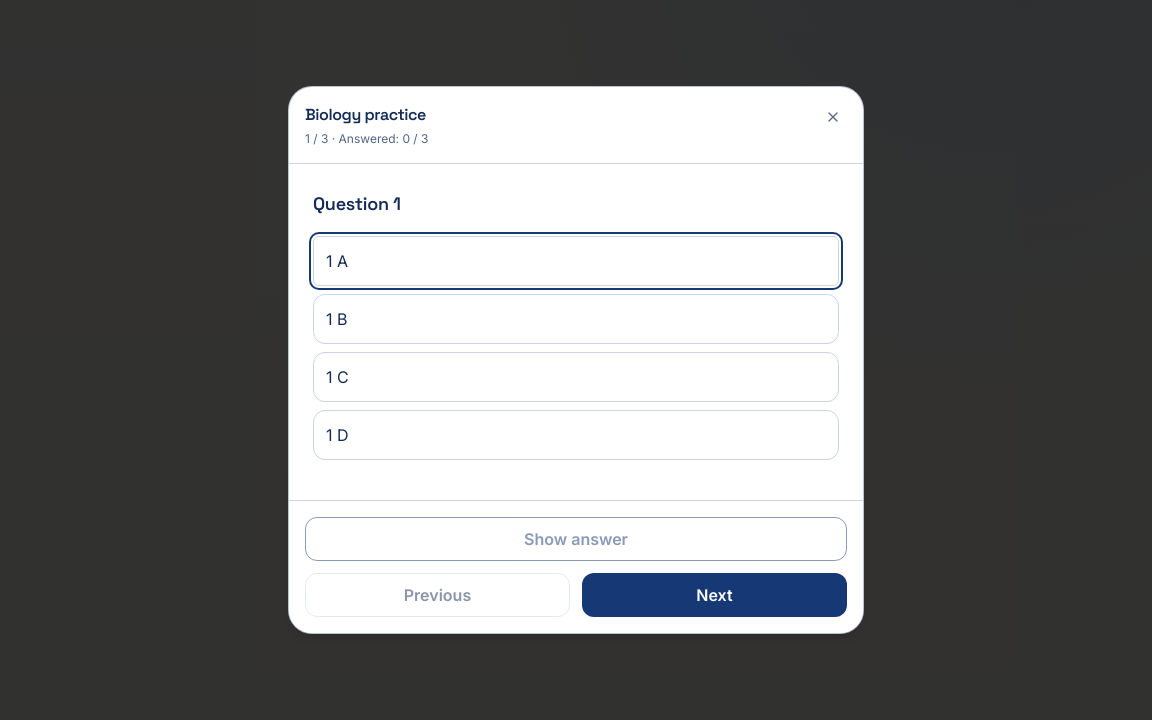
teacher MCQ navigation › allows en students to move both ways without answering first
This screenshot has width=1152, height=720.
Expected: the button "Previous" is disabled, [305, 573, 570, 617]
Click the button "Next" at (714, 595), box [582, 573, 847, 617]
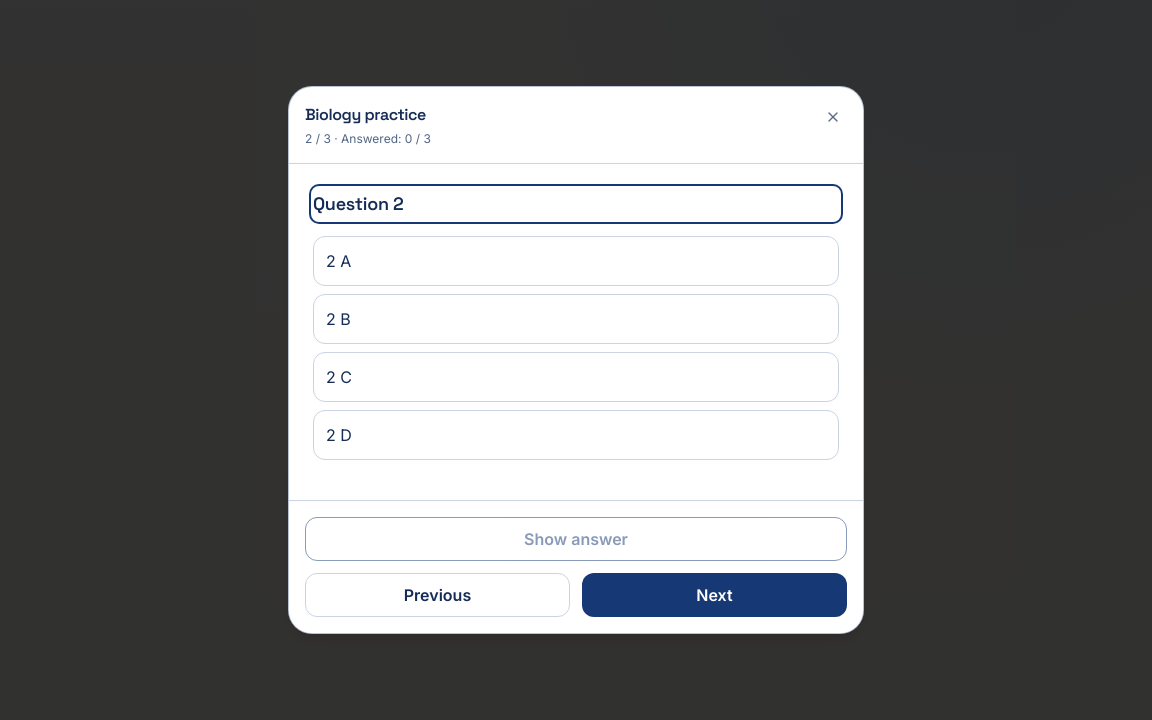
Expected: the heading "Question 2" is shown, [313, 192, 404, 215]
Click the button "Previous" at (438, 595), box [305, 573, 570, 617]
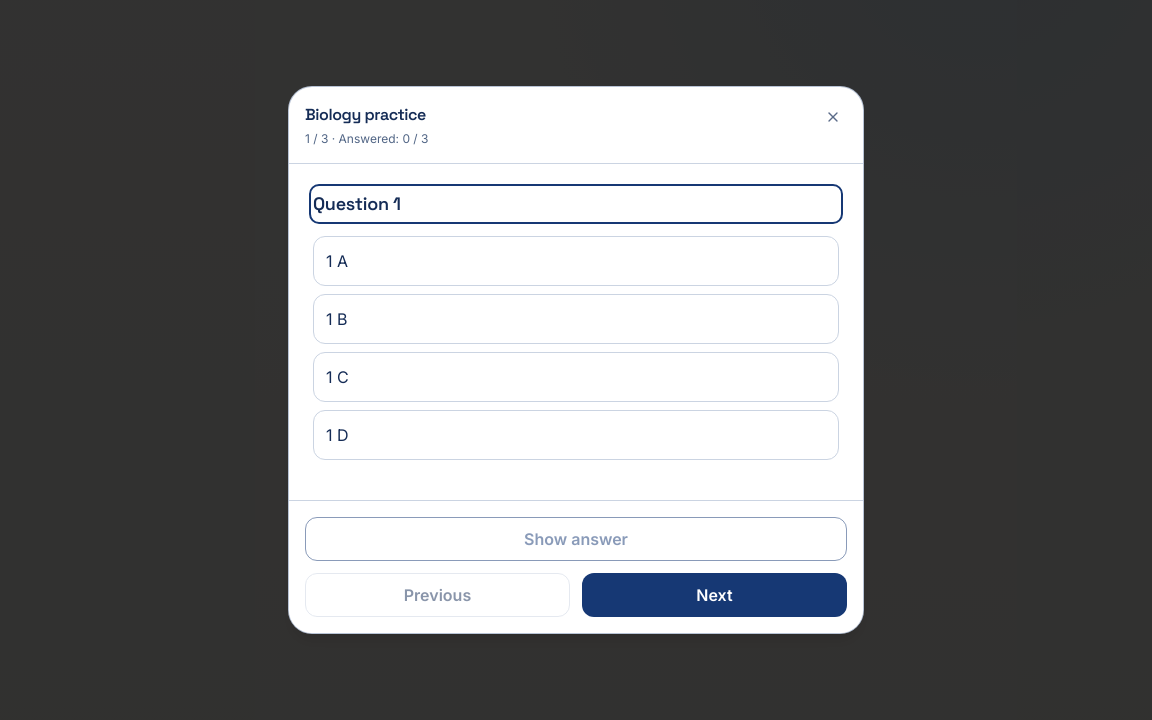
Expected: the heading "Question 1" is shown, [313, 192, 401, 215]
Click the button "Next" at (714, 595), box [582, 573, 847, 617]
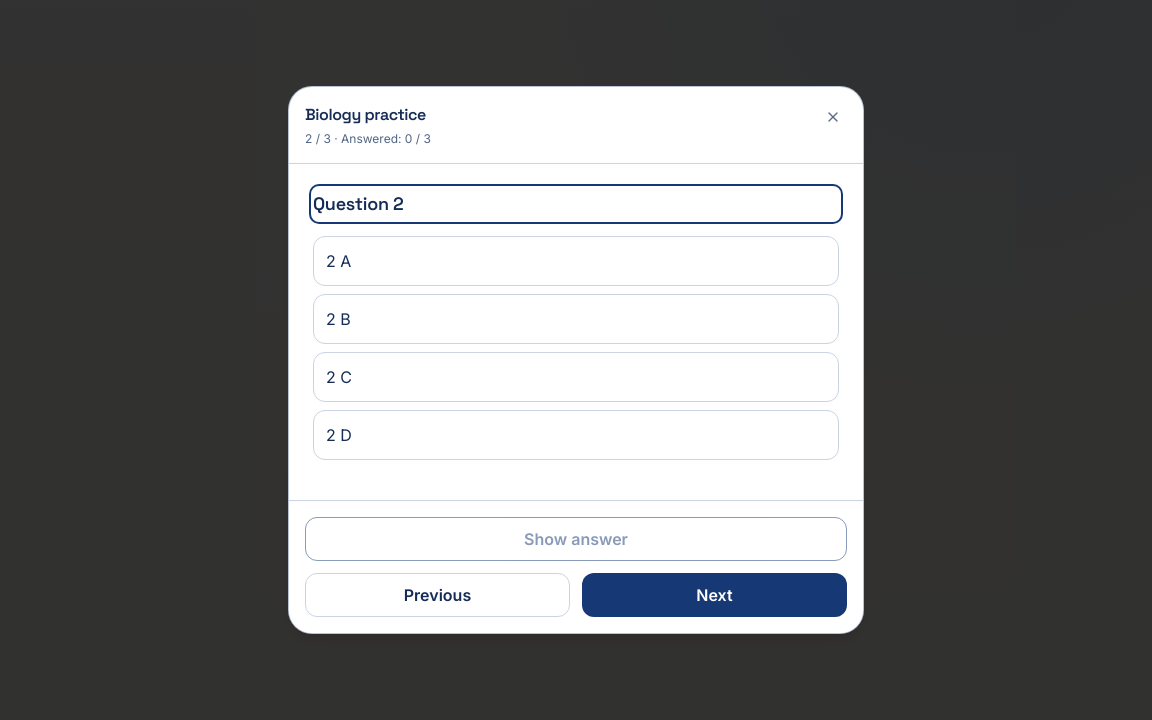
Click the button "Next" at (714, 595), box [582, 573, 847, 617]
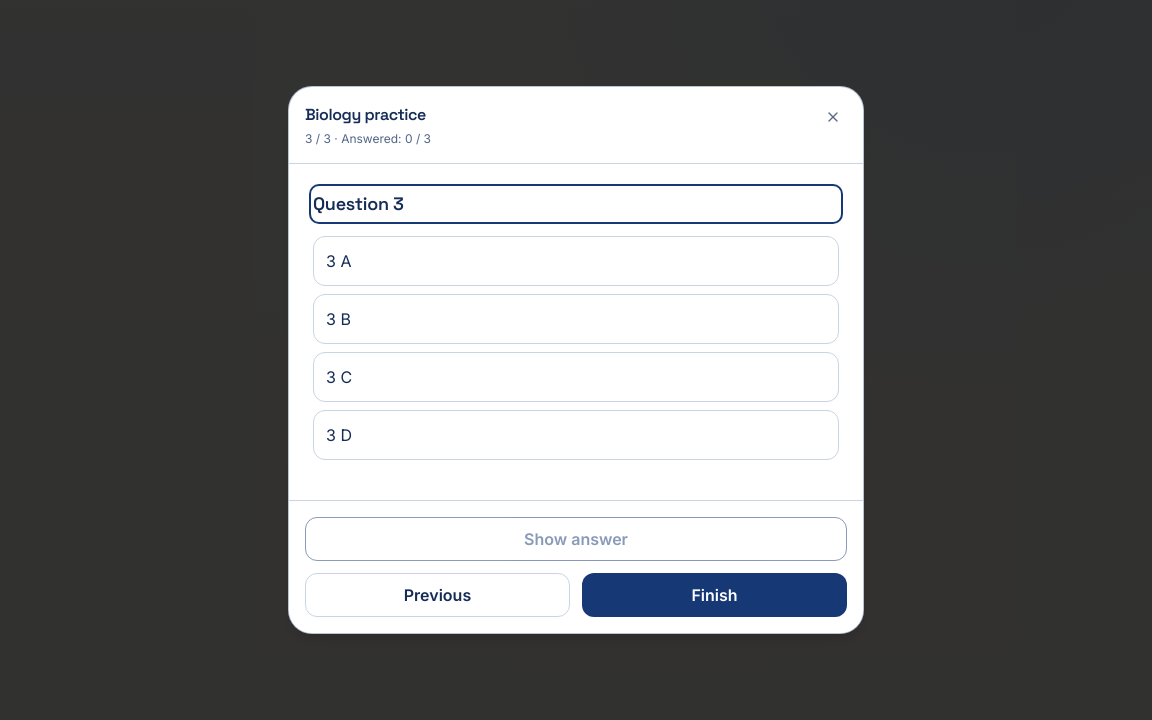
Expected: the heading "Question 3" is shown, [313, 192, 404, 215]
